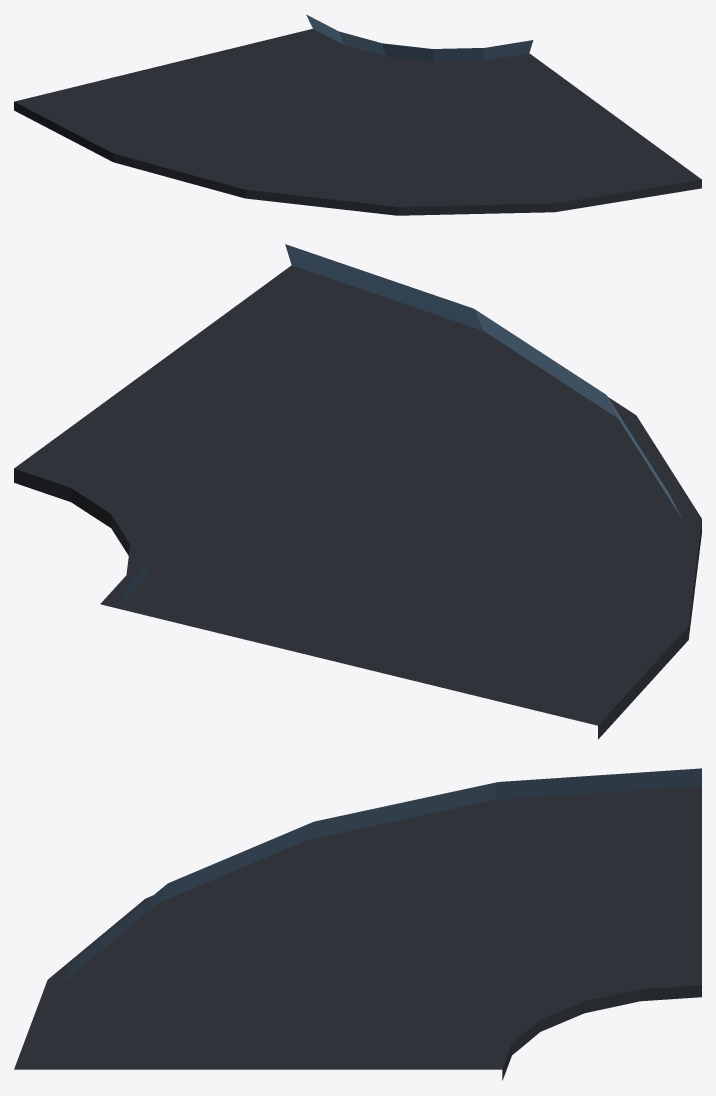
Rendered from road_future_curve_lod1.glb.
3 views of the same model, one above another, from view 1: azimuth 30°, elevation 25°; view 2: azimuth 150°, elevation 25°; view 3: azimuth 270°, elevation 25° (orthographic). The views are drawn at different scales.
Parts seen in each view (by area): view 1: body; view 2: body; view 3: body.
Boxes of the visible parts, box(x1,y1,x2,y2) form: body: box(14, 14, 701, 215); body: box(14, 244, 701, 739); body: box(14, 768, 701, 1080).
Size of the model in its own units: 6.2 by 0.34 by 6.2.
